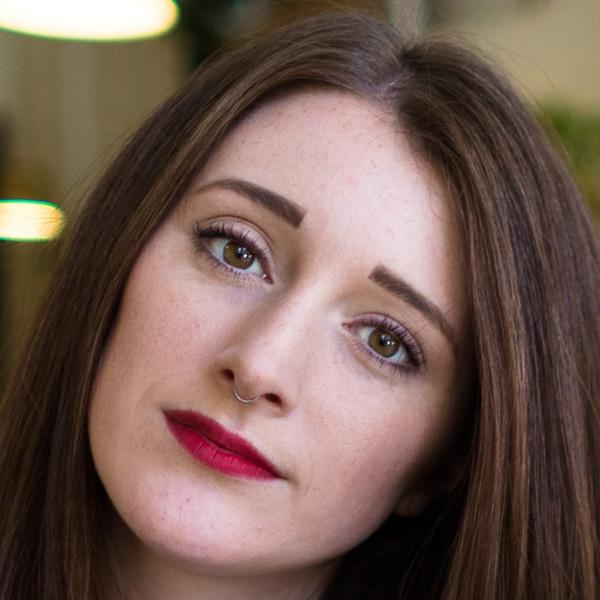Eyes: (182, 209, 281, 292), (335, 305, 425, 380)
